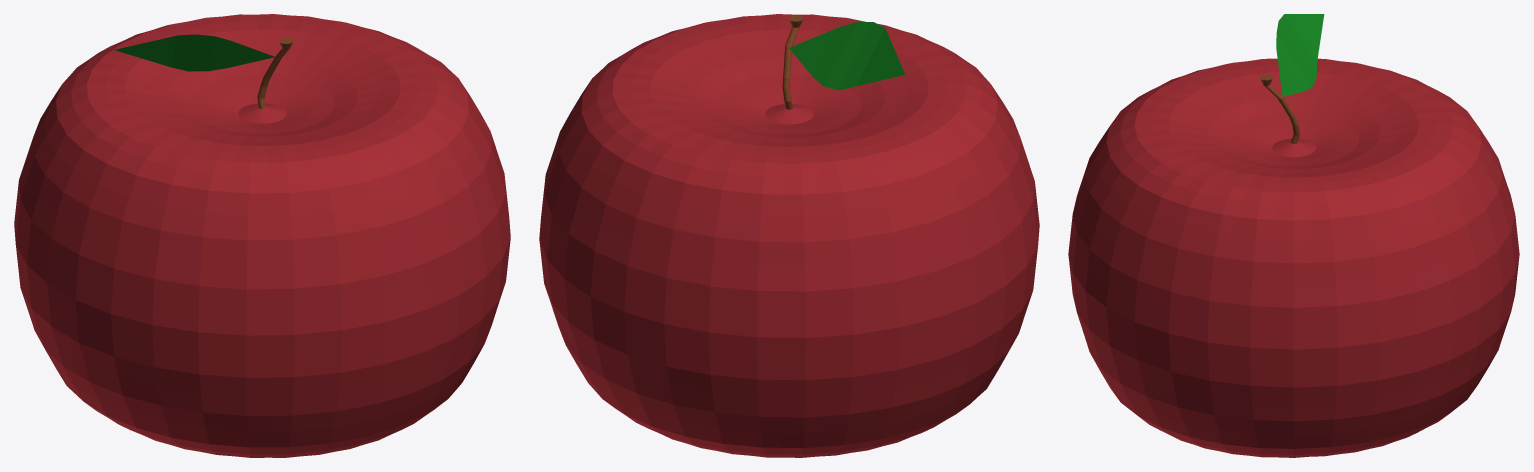
The model's file is Apple.fbx.
The picture shows the model from 3 angles, left to right: view 1: azimuth 30°, elevation 25°; view 2: azimuth 150°, elevation 25°; view 3: azimuth 270°, elevation 25°; orthographic projection. The views are drawn at different scales.
Parts seen in each view (by area): view 1: Sphere; view 2: Sphere; view 3: Sphere.
Boxes of the visible parts, x1=… form: Sphere: x1=14, y1=14, x2=510, y2=457; Sphere: x1=539, y1=14, x2=1039, y2=457; Sphere: x1=1068, y1=14, x2=1519, y2=457.
Bounding box in the file's own units: 200 × 170 × 200.
